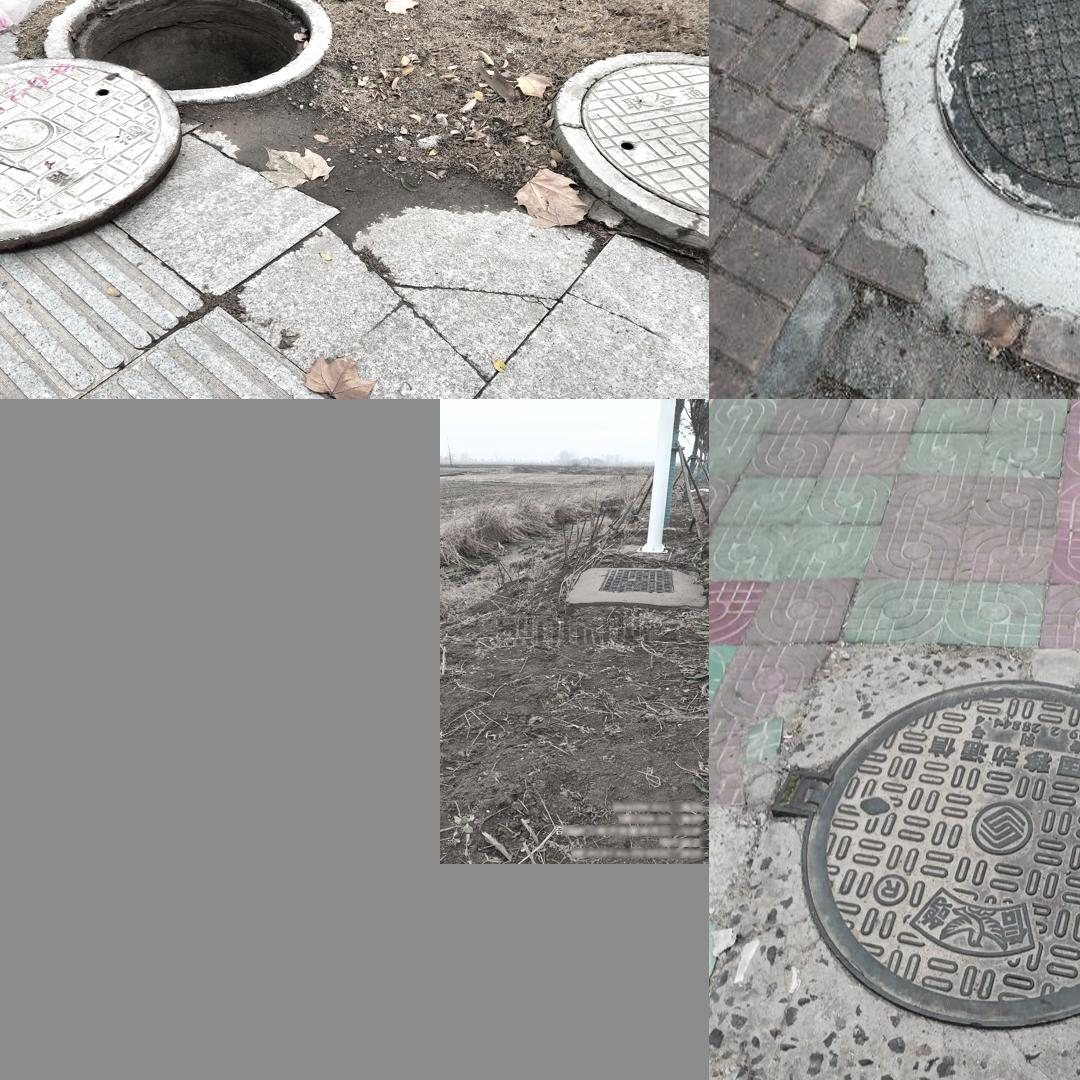good: (771, 677, 1080, 1029), (887, 0, 1080, 312), (554, 51, 709, 252), (596, 569, 676, 594)
uncovered: (0, 0, 329, 254)
